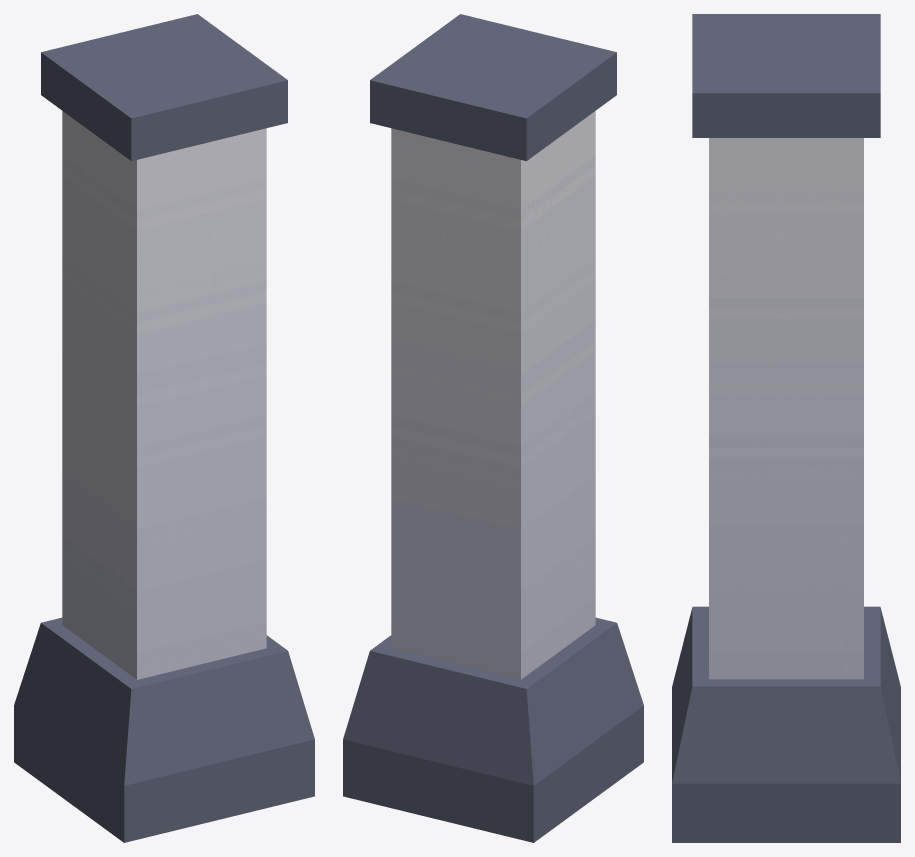
Rendered from bridge-pillar-wide.glb.
3 views of the same model, side by side, from view 1: azimuth 30°, elevation 25°; view 2: azimuth 150°, elevation 25°; view 3: azimuth 270°, elevation 25° (orthographic). The views are drawn at different scales.
Visible parts, largest first — view 1: bridge-pillar-wide; view 2: bridge-pillar-wide; view 3: bridge-pillar-wide.
Part boxes in pixels (box(x1,y1,x2,y2)): bridge-pillar-wide: box(14, 14, 314, 842); bridge-pillar-wide: box(343, 14, 643, 842); bridge-pillar-wide: box(672, 14, 900, 842).
Size of the model in its own units: 0.14 by 0.5 by 0.14.
1 material, 1 textured.
